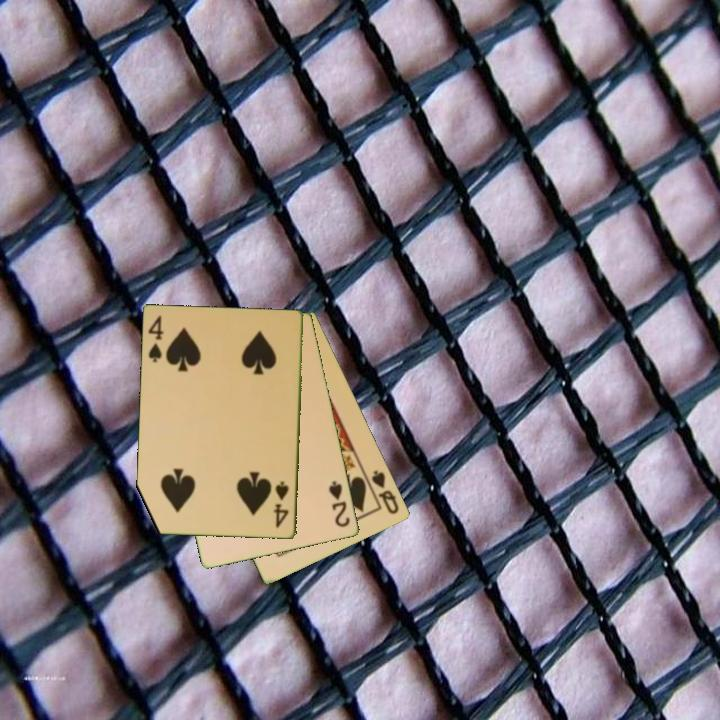2s: (326, 477, 353, 530)
4s: (271, 478, 292, 531), (145, 313, 166, 365)
Qs: (369, 466, 402, 517)
